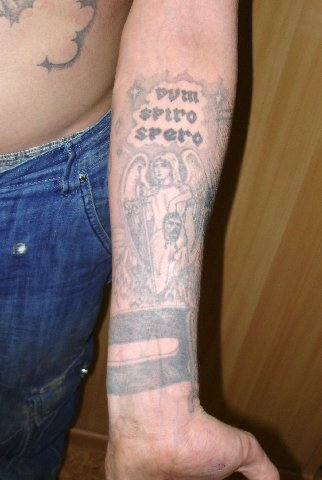tatu1_angel: (123, 151, 203, 302)
tatu3_bukva: (127, 70, 208, 150)
